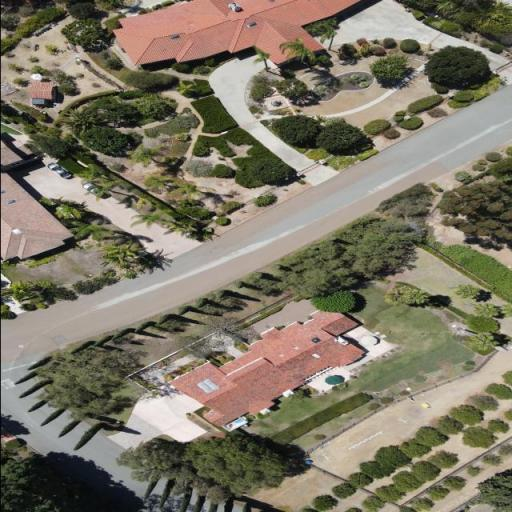solar-panel: (196, 379, 219, 393)
